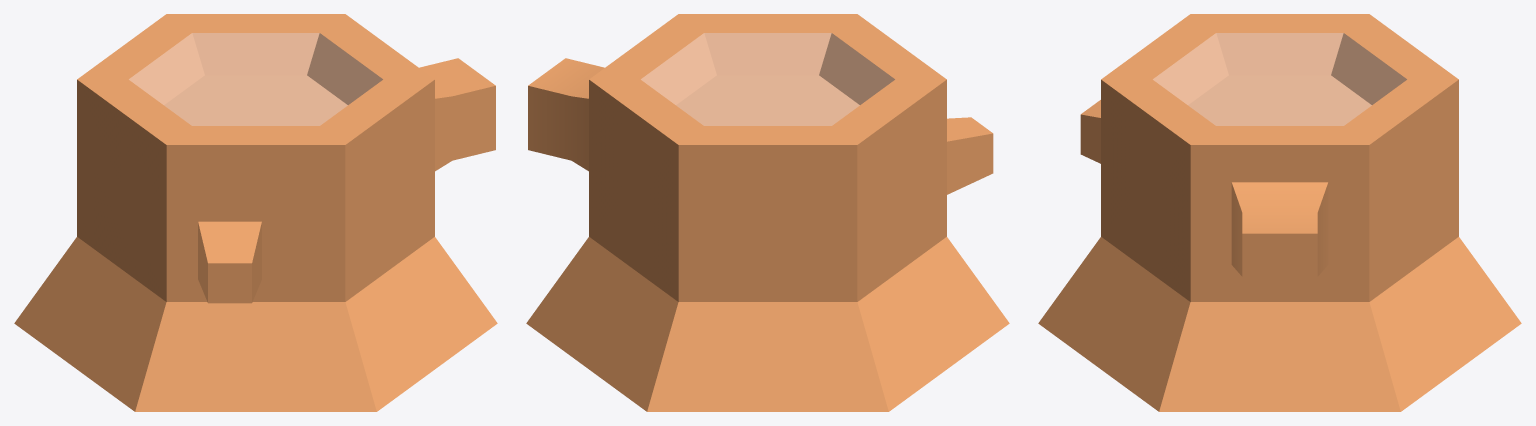
The model's file is treeStump_round_side.fbx.
3 views of the same model, side by side, from view 1: azimuth 30°, elevation 25°; view 2: azimuth 150°, elevation 25°; view 3: azimuth 270°, elevation 25° (orthographic).
Visible parts, largest first — view 1: treeStump_round_side; view 2: treeStump_round_side; view 3: treeStump_round_side.
Boxes of the visible parts, <box> form: treeStump_round_side: <box>14,14,497,411</box>; treeStump_round_side: <box>526,14,1009,411</box>; treeStump_round_side: <box>1038,14,1521,411</box>.
Size of the model in its own units: 3.57 by 2.07 by 3.71.
